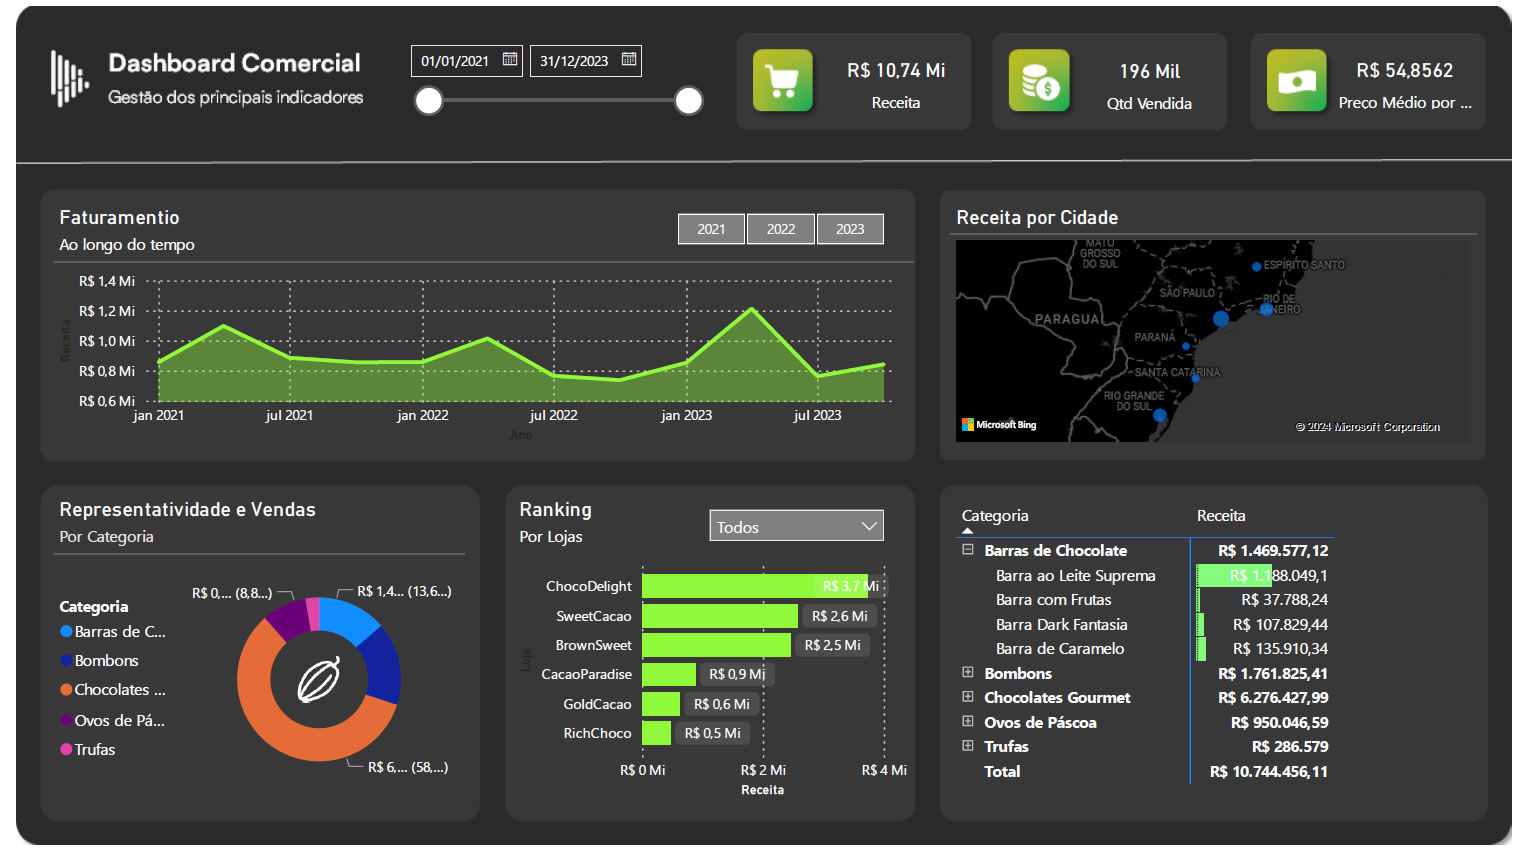

What the dashboard file says about the page in this screenshot:
{"tool":"powerbi","page":{"name":"Página 1","canvas":[1280,720],"ordinal":0},"visuals":[{"type":"card","fields":{"Values":["Vendas.Receita"]},"box":[694.7,36,117.3,57.3],"z":0},{"type":"card","fields":{"Values":["Vendas.Qtd Vendida"]},"box":[916,36,109.3,58.7],"z":1000},{"type":"card","fields":{"Values":["Vendas.Preço Médio por Venda"]},"box":[1126.7,36,124,57.3],"z":2000},{"type":"areaChart","title":"Faturamentio","fields":{"Category":["Vendas.Data.Variation.Hierarquia de datas.Ano","Vendas.Data.Variation.Hierarquia de datas.Trimestre","Vendas.Data.Variation.Hierarquia de datas.Mês","Vendas.Data.Variation.Hierarquia de datas.Dia"],"Y":["Vendas.Receita"]},"box":[32.3,171,735.5,206.5],"z":3000},{"type":"map","fields":{"Category":["Lojas.Cidade"],"Size":["Vendas.Receita"]},"box":[800,171,450,206.5],"z":4000},{"type":"donutChart","title":"Representatividade e Vendas","fields":{"Y":["Vendas.Receita"],"Series":["Produtos.Categoria"]},"box":[32.3,421,351.6,261.3],"z":5000},{"type":"barChart","title":"Ranking","fields":{"Category":["Lojas.Loja"],"Y":["Vendas.Receita"]},"box":[425.8,421,341.9,261.3],"z":6000},{"type":"pivotTable","fields":{"Rows":["Produtos.Categoria","Produtos.Produto"],"Values":["Vendas.Receita"]},"box":[800,421,450,261.3],"z":7000},{"type":"image","box":[234.7,548,49.3,56],"z":8000},{"type":"slicer","fields":{"Values":["Vendas.Data"]},"box":[325.3,22.7,272,85.3],"z":9000},{"type":"slicer","fields":{"Values":["Vendas.Data.Variation.Hierarquia de datas.Ano"]},"box":[541.3,170.7,225.3,40],"z":10000},{"type":"slicer","fields":{"Values":["Lojas.Loja"]},"box":[584,421.3,169.3,49.3],"z":11000}]}

Visuals, with their boxes in screenshot pixels (x1, y1, x2, y2), scaled from the page's 1280x720 canvas onto the 1530x858 screenshot:
card - Vendas.Receita: (830, 43, 971, 111)
card - Vendas.Qtd Vendida: (1095, 43, 1226, 113)
card - Vendas.Preço Médio por Venda: (1347, 43, 1495, 111)
"Faturamentio" areaChart: (39, 204, 918, 450)
map - Lojas.Cidade x Vendas.Receita: (956, 204, 1494, 450)
"Representatividade e Vendas" donutChart: (39, 502, 459, 813)
"Ranking" barChart: (509, 502, 918, 813)
pivotTable - Produtos.Categoria x Produtos.Produto: (956, 502, 1494, 813)
image: (281, 653, 339, 720)
slicer - Vendas.Data: (389, 27, 714, 129)
slicer - Vendas.Data.Variation.Hierarquia de datas.Ano: (647, 203, 916, 251)
slicer - Lojas.Loja: (698, 502, 900, 561)
